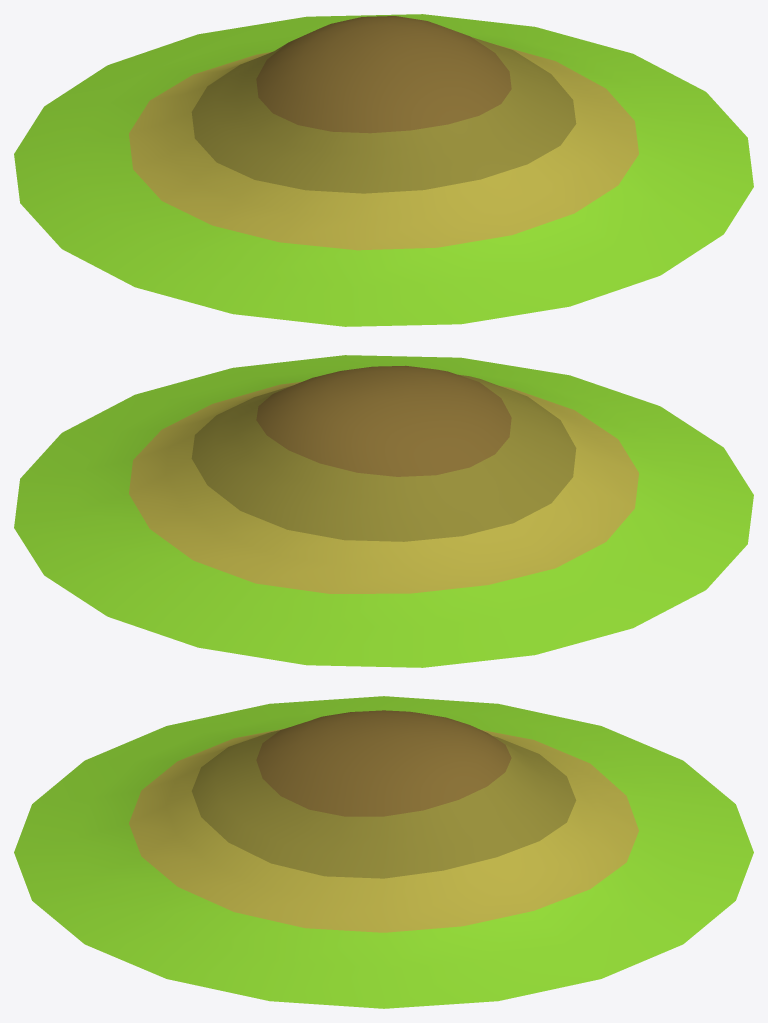
The model's file is Mound.fbx.
The picture shows the model from 3 angles, top to bottom: view 1: azimuth 30°, elevation 25°; view 2: azimuth 150°, elevation 25°; view 3: azimuth 270°, elevation 25°; orthographic projection.
Parts seen in each view (by area): view 1: Mound; view 2: Mound; view 3: Mound.
Part boxes in pixels (x1=…): Mound: x1=14, y1=14, x2=753, y2=326; Mound: x1=14, y1=355, x2=753, y2=667; Mound: x1=14, y1=696, x2=753, y2=1008.
Bounding box in the file's own units: 4.1 × 0.7503 × 4.1.
